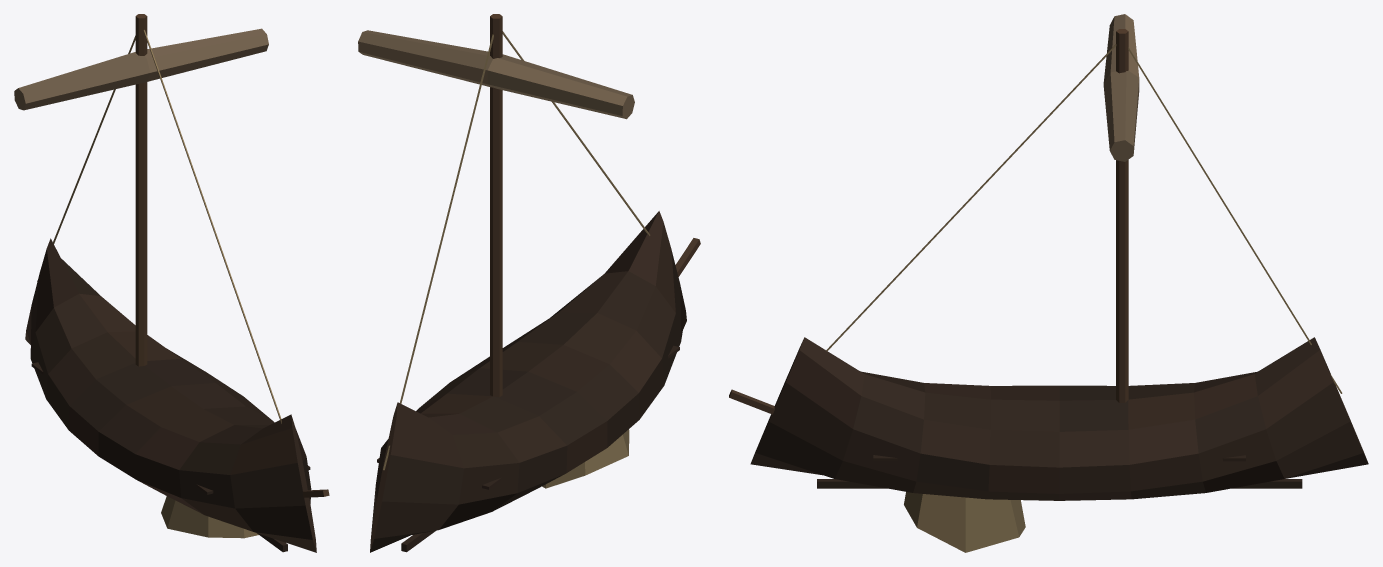
File: walk_prop_fishing_boat.glb
The picture shows the model from 3 angles, left to right: view 1: azimuth 30°, elevation 25°; view 2: azimuth 150°, elevation 25°; view 3: azimuth 270°, elevation 25°; orthographic projection. The views are drawn at different scales.
Visible parts, largest first — view 1: walk_prop_fishing_boat; view 2: walk_prop_fishing_boat; view 3: walk_prop_fishing_boat.
Boxes of the visible parts, bbox=[...] form: walk_prop_fishing_boat: bbox=[14, 14, 329, 552]; walk_prop_fishing_boat: bbox=[358, 14, 700, 552]; walk_prop_fishing_boat: bbox=[729, 14, 1368, 552].
Size of the model in its own units: 3.81 by 7 by 8.16.
1 material, 1 textured.
